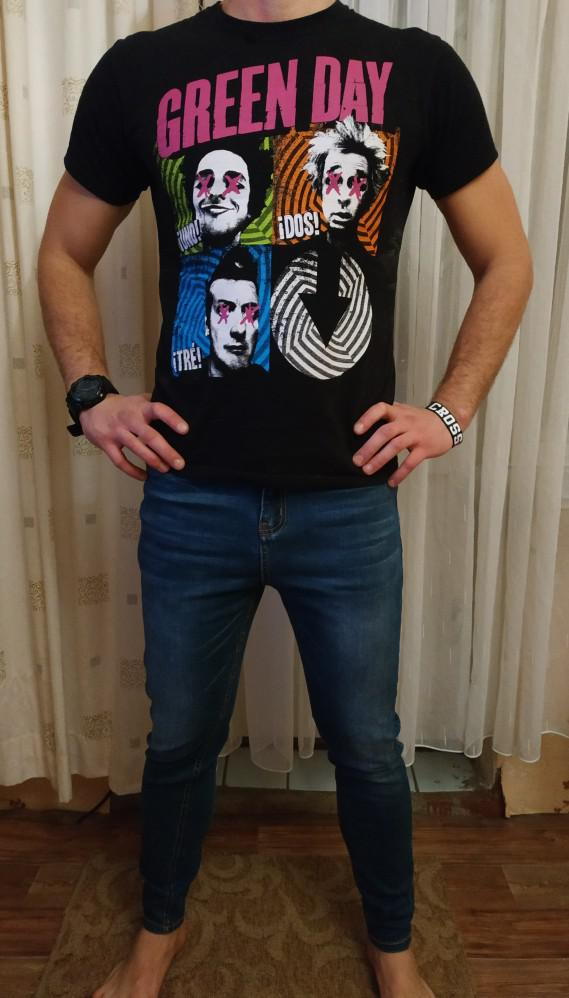jeans: (109, 432, 410, 945)
